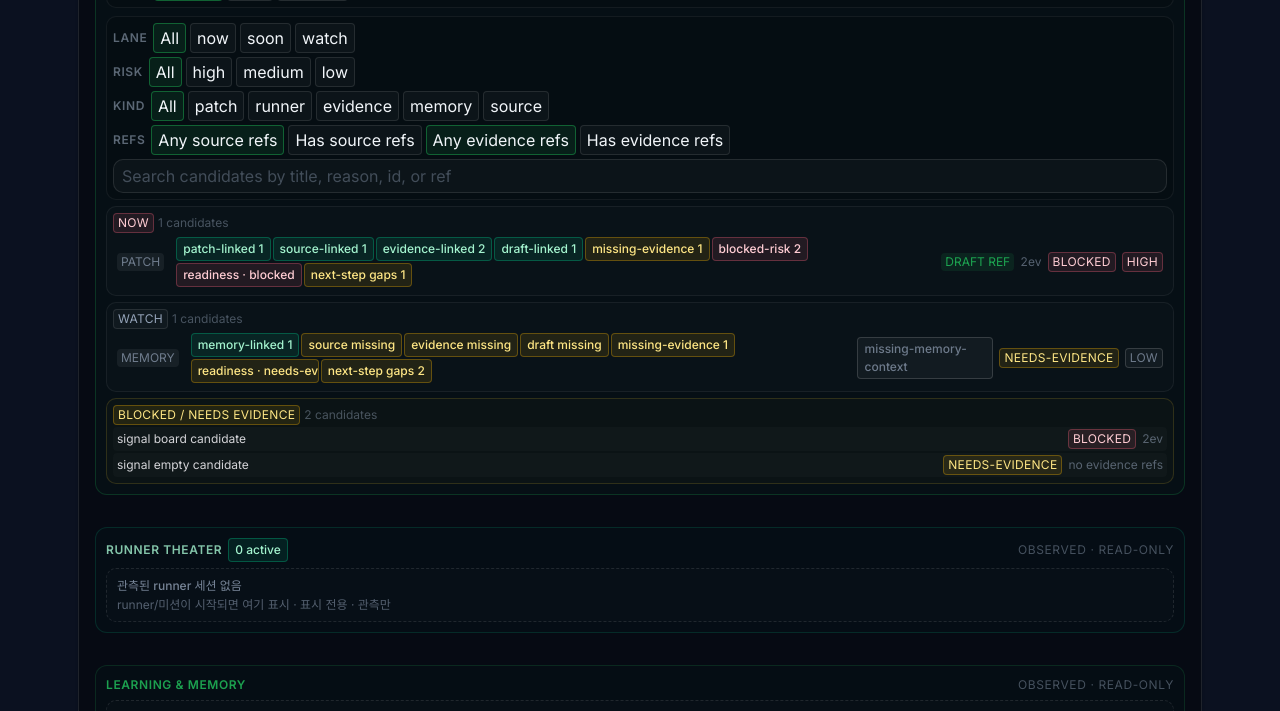
E14 — WorkItem Candidate signal chips and origin summary › renders honest missing signal state without fake resolution
The image size is (1280, 711).
(page scrolled)
Expected: the text with test id "wic-signal-chip-wic-signal-empty-memory-linked" shows "memory-linked", [198,336,292,352]
Expected: the text with test id "wic-signal-chip-wic-signal-empty-source-linked" reads "source missing", [308,336,395,352]
Click the button with test id "wic-row-wic-signal-empty": (640, 358) [113,330,1167,384]
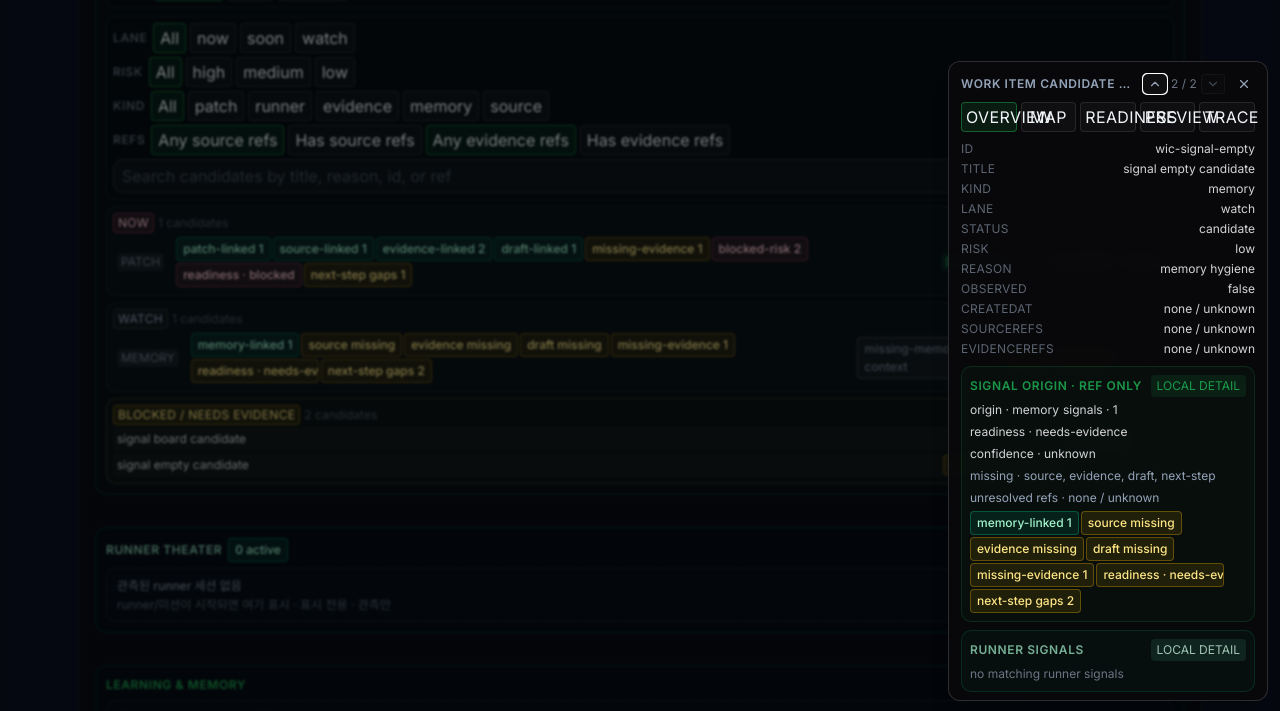
Now the element with test id "wic-signal-summary" shows "missing · source, evidence, draft, next-step", box [961,366,1255,622]
Now the element with test id "wic-signal-summary" shows "unresolved refs · none / unknown", box [961,366,1255,622]
